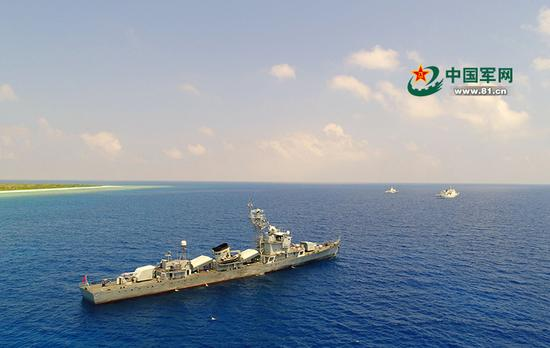warship: (76, 199, 345, 302)
